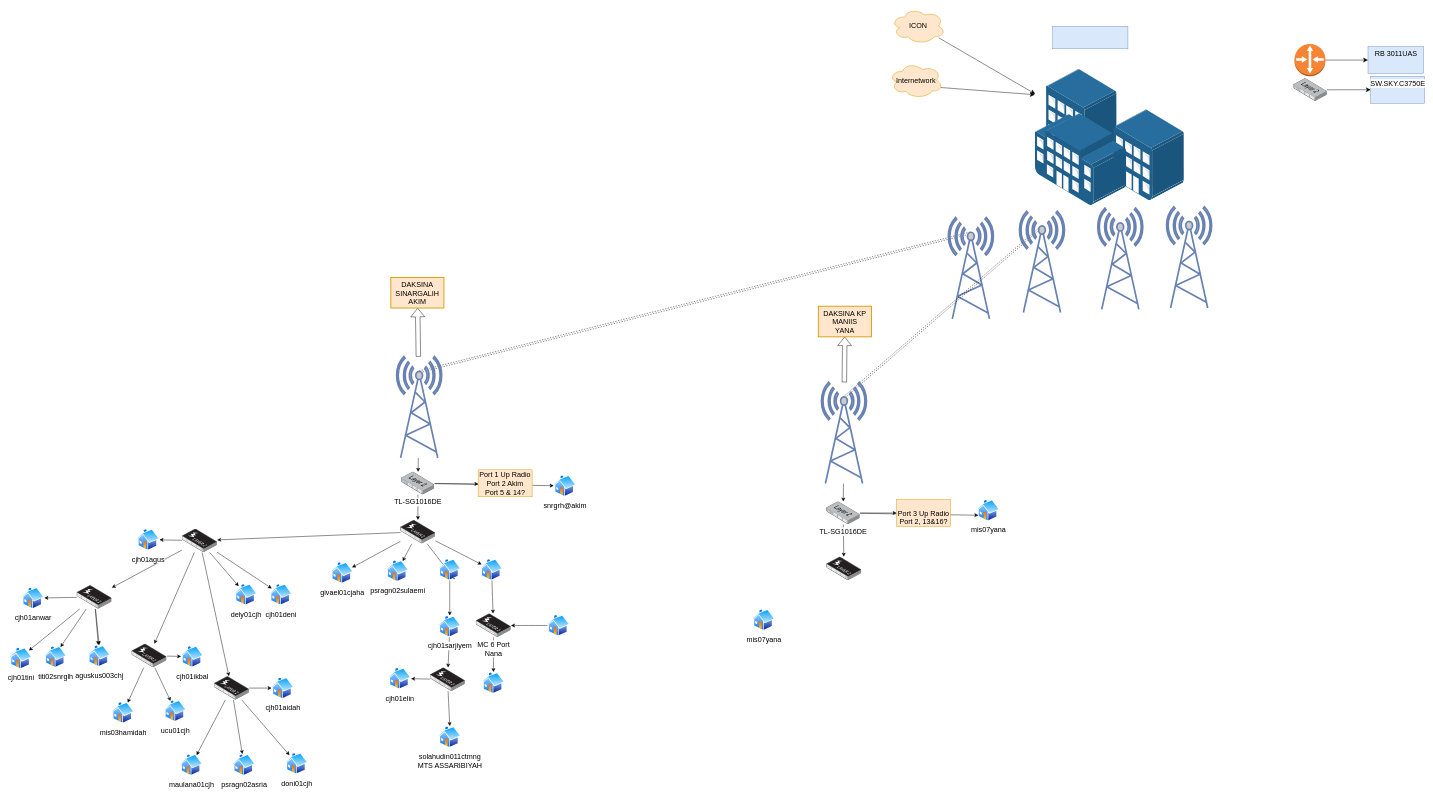
Some shapes in this 1433 by 797 pixel diagram are drawn without their labels. Each missing label, with the centre of its shape:
"lilisrat028" goes at pixel 491 569.
"MC 6 Port Agus Mahardika" goes at pixel 199 540.
"MC 6 Port Akim" goes at pixel 417 532.
"MC 6 Port Elin" goes at pixel 447 679.
"MC 6 Port Yana" goes at pixel 843 568.
"MC aidah" goes at pixel 231 688.
"MC Anwar" goes at pixel 94 597.
"MC Ikbal" goes at pixel 148 655.
"nanasur01snrglh" goes at pixel 558 625.
"POP PURWAKARTA Rumah Pak Farid" goes at pixel 1090 37.
"psragn02feri" goes at pixel 449 569.
"ria06snrglh" goes at pixel 493 683.
